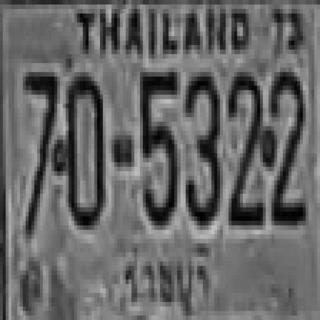N00: (63, 72, 103, 225)
N02: (226, 70, 266, 223), (264, 68, 304, 212), (266, 70, 303, 223), (227, 70, 264, 210)
N03: (183, 68, 220, 221)
N05: (139, 68, 176, 221)
N07: (23, 68, 57, 230), (23, 68, 57, 194), (23, 68, 57, 176)
P52: (114, 243, 222, 318)
